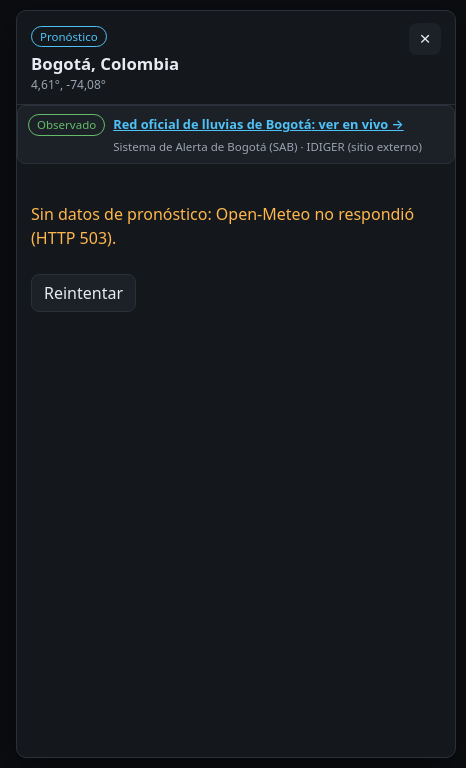
it: PointPanel › si Open-Meteo falla dice "sin datos" y permite reintentar
Expected: the message shows "Sin datos de pronóstico", x1=31 y1=203 x2=414 y2=249
Click the button "Reintentar". click: (84, 293)
box: x1=31 y1=274 x2=136 y2=312
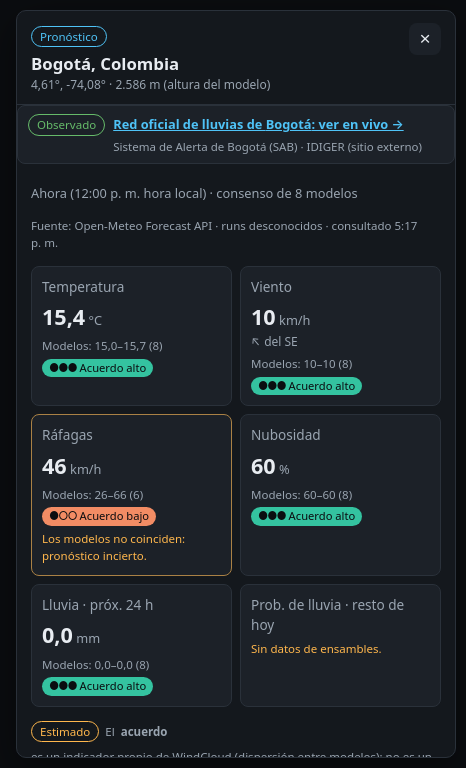
Now the text "Ahora (12:00 p. m. hora local) · consenso de 8 modelos" is shown, box x1=31 y1=184 x2=358 y2=202
Now the text "runs desconocidos" is shown, box x1=221 y1=218 x2=322 y2=233
